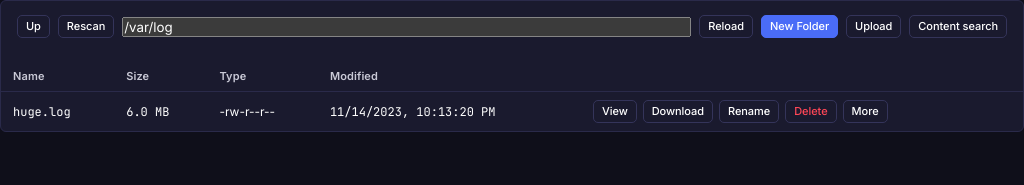
Test: FilesTab viewer › refuses a file over the viewer limit without asking the target for it
What coordinates should you click on to do the following:
click the text "huge.log"
I would click on:
 (58, 112)
Its box is [1,92,114,131].
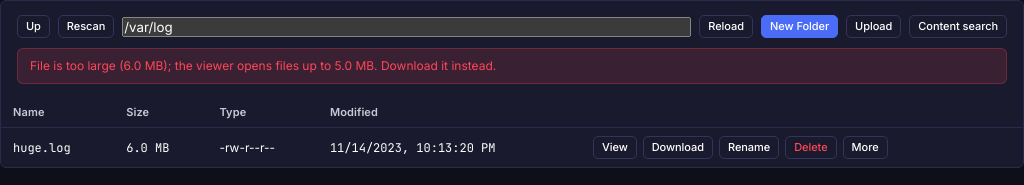
Check: the text "File is too large" is shown, box [30,58,496,73]
